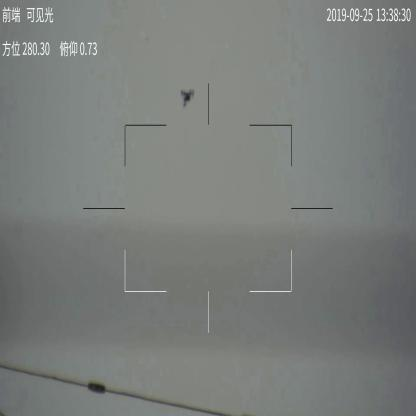uav: (180, 82, 195, 113)
